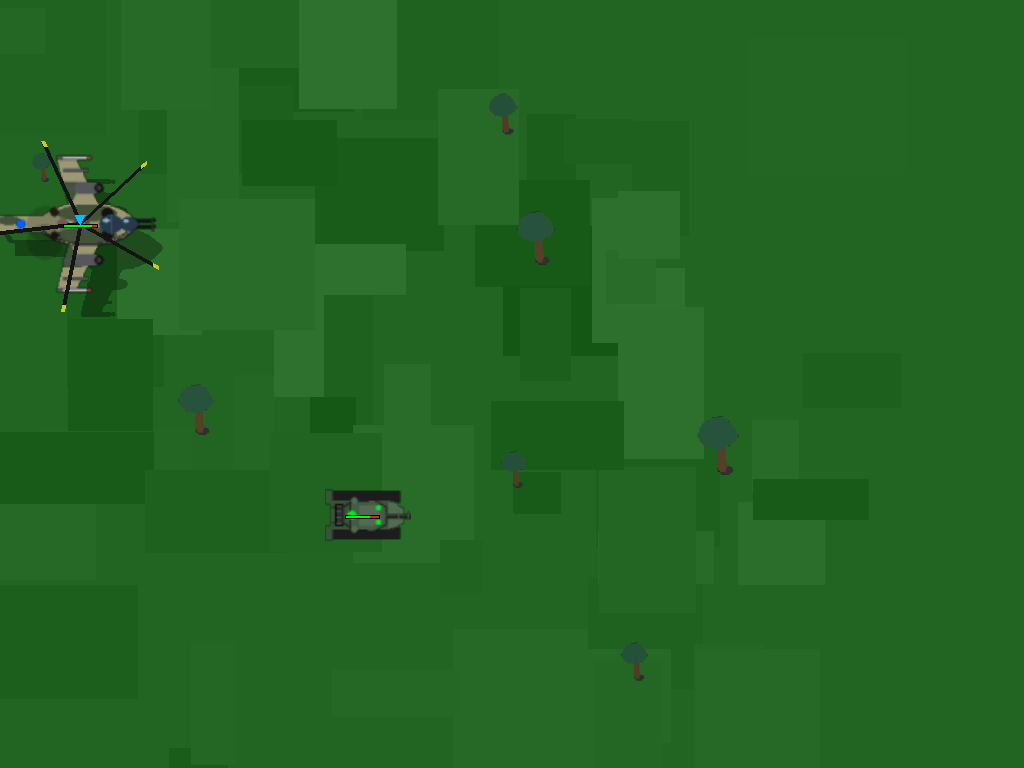M1A2_rus: (323, 474, 402, 553)
Mi24: (32, 175, 127, 270)
